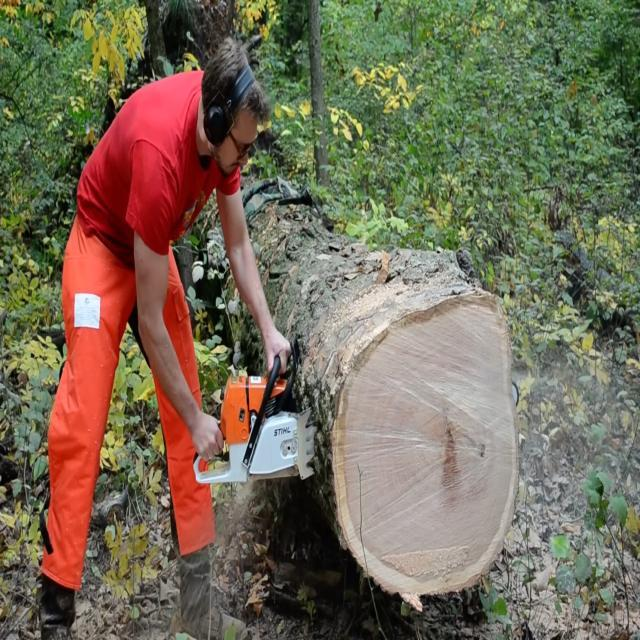Chainsaw: (176, 367, 344, 495)
